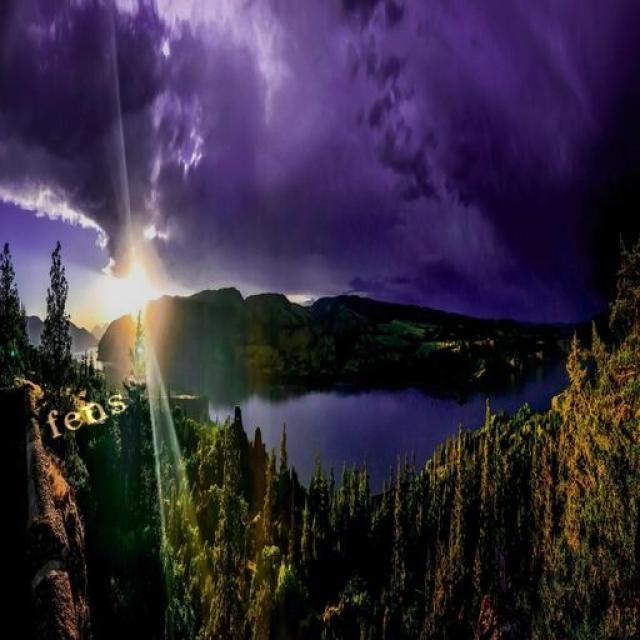watermark: (41, 381, 128, 444)
